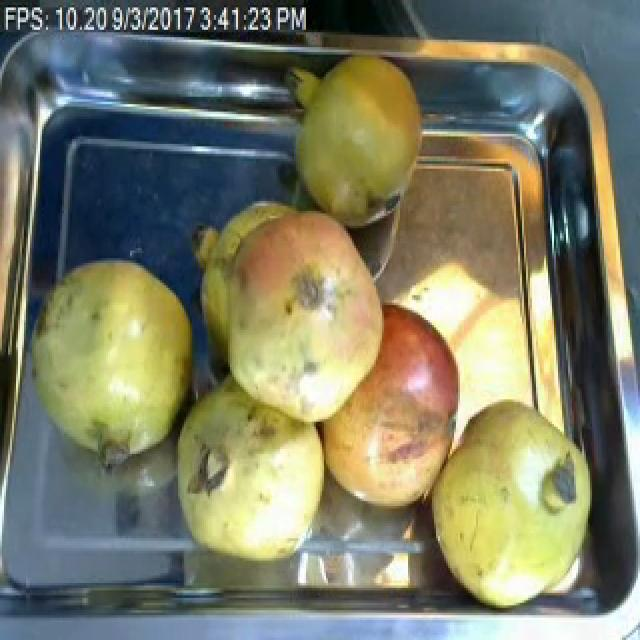fruit: (198, 191, 404, 447), (414, 385, 604, 625), (24, 243, 212, 474), (312, 288, 476, 531), (158, 370, 342, 578), (280, 47, 434, 243)
